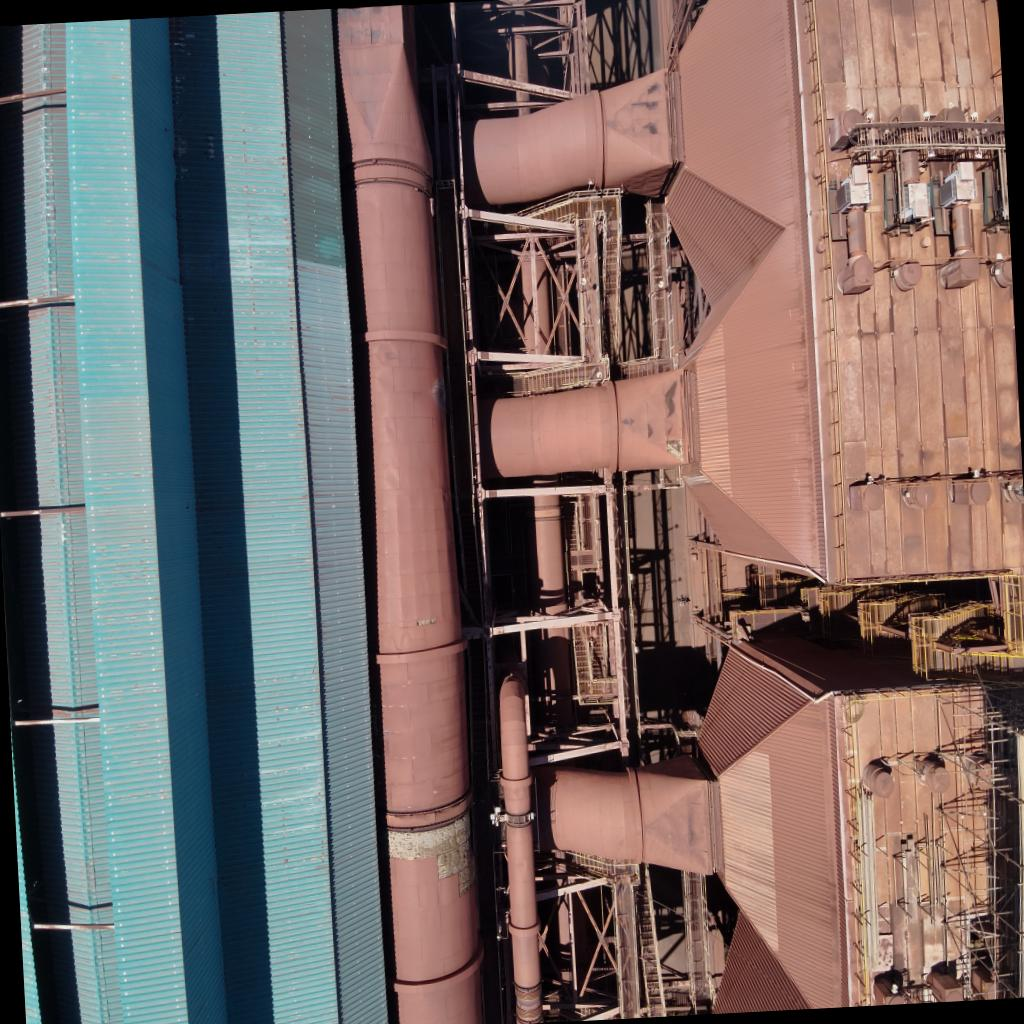Failures: (384, 820, 478, 896), (412, 182, 436, 218), (663, 433, 685, 468), (415, 614, 439, 630)
